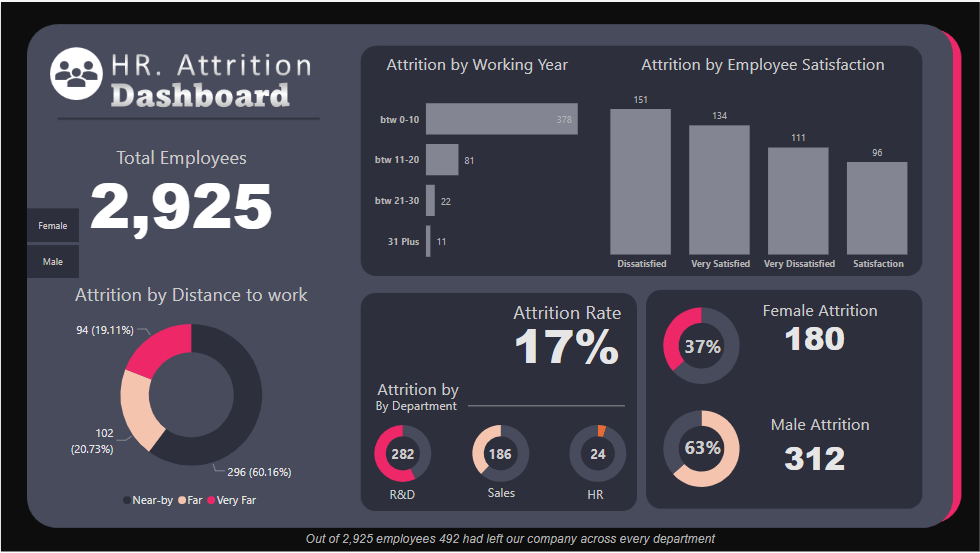

What the dashboard file says about the page in this screenshot:
{"tool":"powerbi","page":{"name":"Page 1","canvas":[1280,720],"ordinal":0},"visuals":[{"type":"donutChart","title":"Attrition by Distance to office","fields":{"Category":["Data.Distance Dtatus"],"Y":["All measures.Total Attrition"]},"box":[19.3,360.1,474.6,346.3],"z":0},{"type":"card","title":"Total Employees","fields":{"Values":["All measures.Total Employees"]},"box":[166.9,157.3,247,133.8],"z":1000},{"type":"barChart","title":"Attrition by Working Year","fields":{"Y":["All measures.Total Attrition"],"Category":["Data.Working Year Group"]},"box":[547.7,37.2,332.5,296.6],"z":2000},{"type":"columnChart","title":"Attrition by Job Satisfaction ","fields":{"Y":["All measures.Total Attrition"],"Category":["Data.Job Satisfaction Status"]},"box":[899.5,37.2,351.8,296.6],"z":3000},{"type":"card","title":"Attrition Rate","fields":{"Values":["All measures.% Attrition"]},"box":[677.4,430.4,200,114.5],"z":4000},{"type":"donutChart","fields":{"Y":["All measures.HR Department","All measures.Remain HR"]},"box":[547.7,556,113.1,122.8],"z":5000},{"type":"donutChart","fields":{"Y":["All measures.Sales Department","All measures.Remain Sales"]},"box":[778.1,556,102.1,122.8],"z":6000},{"type":"donutChart","fields":{"Y":["All measures.R&D Department","All measures.Remain R&D"]},"box":[666.4,556,100.7,122.8],"z":7000},{"type":"card","fields":{"Values":["All measures.HR Department"]},"box":[568.4,604.3,70.4,42.8],"z":10000},{"type":"card","fields":{"Values":["All measures.R&D Department"]},"box":[678.8,604.3,70.4,42.8],"z":11000},{"type":"card","fields":{"Values":["All measures.Sales Department"]},"box":[793.3,604.3,70.4,42.8],"z":12000},{"type":"textbox","box":[586.3,666.4,63.5,40],"z":13000},{"type":"textbox","box":[678.8,666.4,88.3,40],"z":13001},{"type":"textbox","box":[804.3,666.4,106.2,40],"z":13002},{"type":"textbox","box":[547.7,449.8,118.6,106.2],"z":13003},{"type":"shape","box":[538,544.9,325.6,11],"z":13004},{"type":"slicer","title":"Analyze Trend by Age Group","fields":{"Values":["Data.Age Bucket"]},"box":[909.5,430.4,327.5,276.1],"z":13005}]}

Visuals, with their boxes in screenshot pixels (x1, y1, x2, y2), scaled from the page's 1280x720 canvas onto the 980x553 screenshot:
"Attrition by Distance to office" donutChart: 15, 277, 378, 543
"Total Employees" card: 128, 121, 317, 224
"Attrition by Working Year" barChart: 419, 29, 674, 256
"Attrition by Job Satisfaction " columnChart: 689, 29, 958, 256
"Attrition Rate" card: 519, 331, 672, 419
donutChart - All measures.HR Department x All measures.Remain HR: 419, 427, 506, 521
donutChart - All measures.Sales Department x All measures.Remain Sales: 596, 427, 674, 521
donutChart - All measures.R&D Department x All measures.Remain R&D: 510, 427, 587, 521
card - All measures.HR Department: 435, 464, 489, 497
card - All measures.R&D Department: 520, 464, 574, 497
card - All measures.Sales Department: 607, 464, 661, 497
textbox: 449, 512, 498, 543
textbox: 520, 512, 587, 543
textbox: 616, 512, 697, 543
textbox: 419, 345, 510, 427
shape: 412, 419, 661, 427
"Analyze Trend by Age Group" slicer: 696, 331, 947, 543
